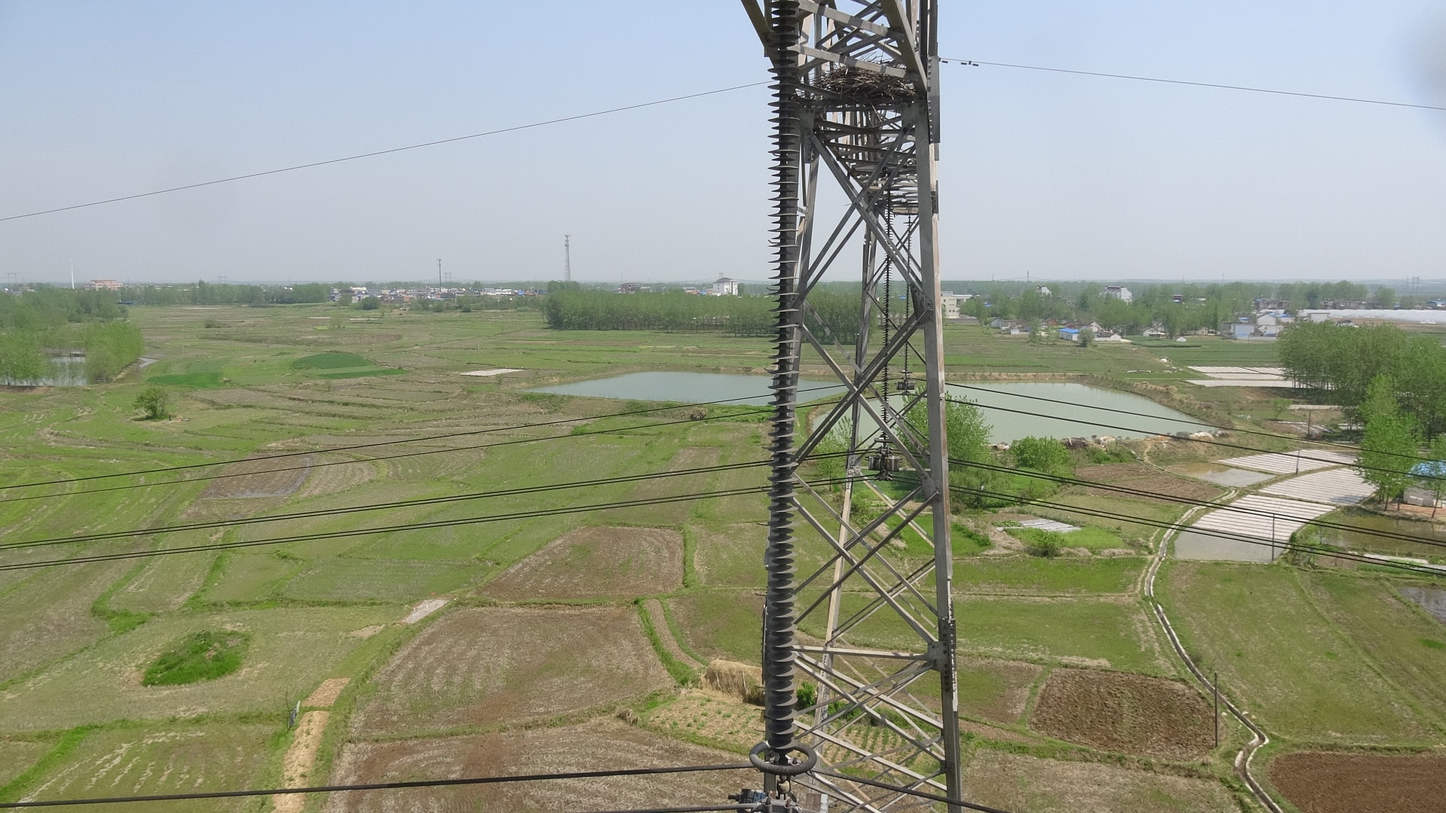insulator: (760, 1, 808, 755), (880, 205, 896, 422), (902, 222, 915, 371)
